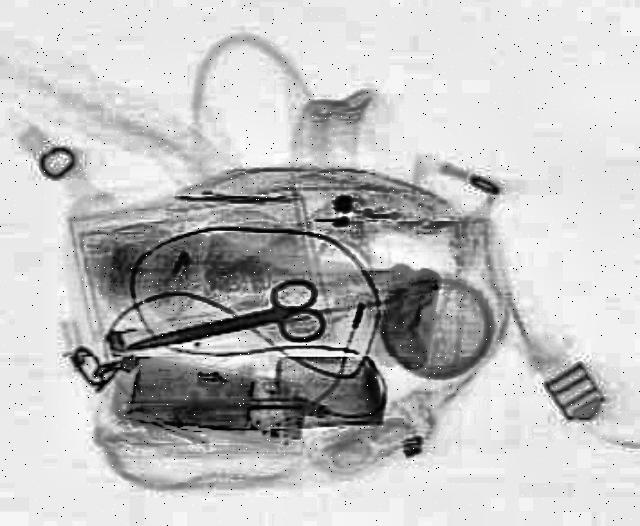Scissors: (113, 280, 330, 380)
